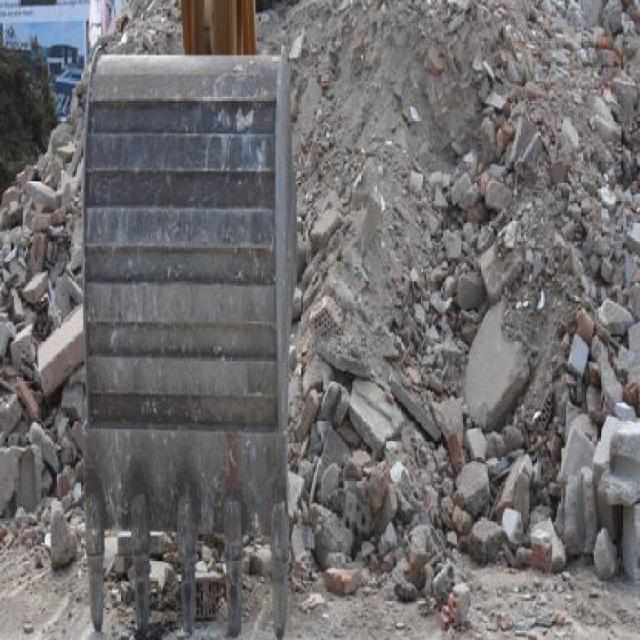garbage: (298, 22, 640, 605), (0, 77, 83, 637)
